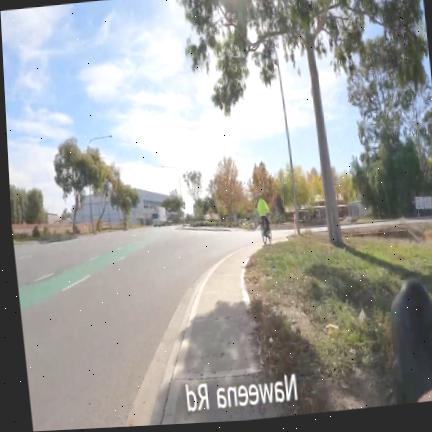Green_Bike_Lane: (18, 238, 151, 313)
